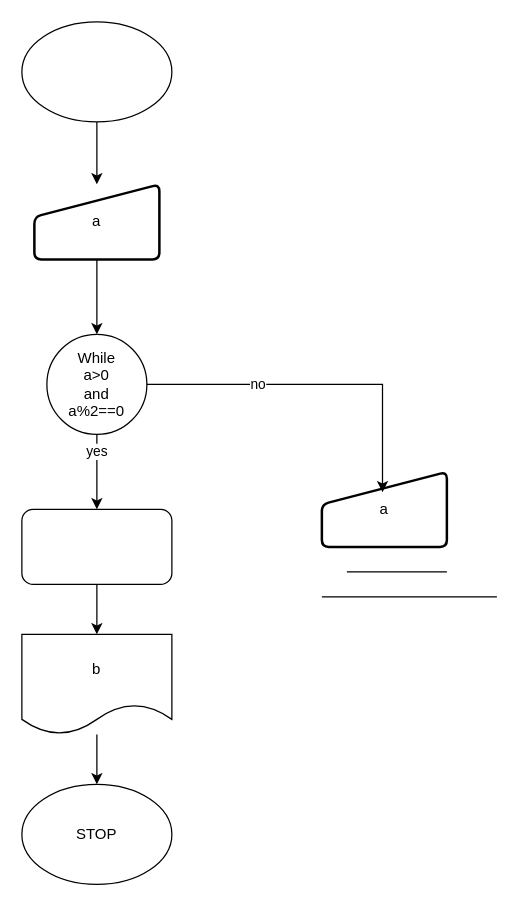
This 520x906 diagram has some shape labels left out. The shapes that lost their labels are listed below. From the top down, each one's box as (x1, y1, x2, y2) in pixels, then its label:
(21, 21, 172, 122): START
(21, 508, 172, 584): b=a%10
